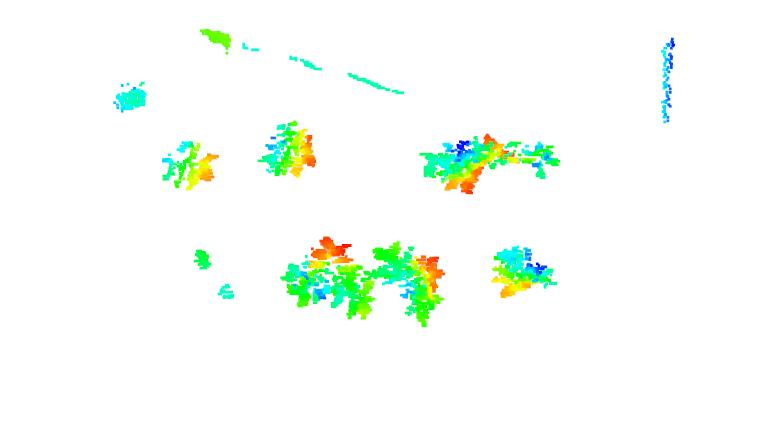chickpea: (284, 229, 376, 320), (373, 238, 446, 334), (414, 134, 486, 203), (491, 240, 564, 307), (487, 125, 565, 180), (260, 121, 322, 185), (159, 136, 224, 193), (186, 247, 238, 302)
